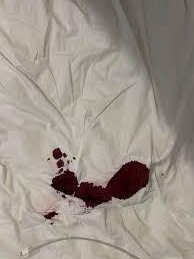blood: (51, 152, 150, 207)
